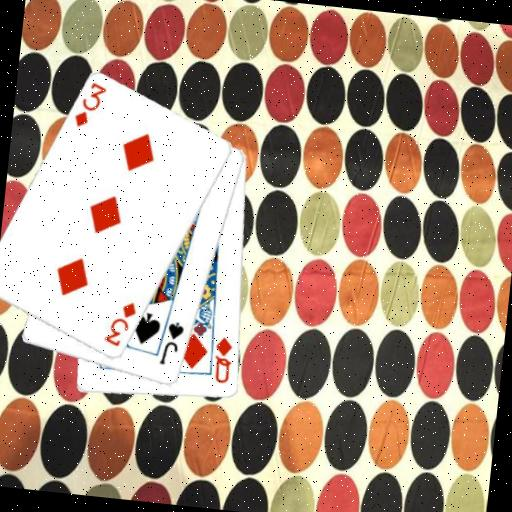3D: (100, 297, 139, 351), (71, 78, 110, 132)
JS: (157, 318, 187, 369)
QD: (209, 334, 236, 386)
